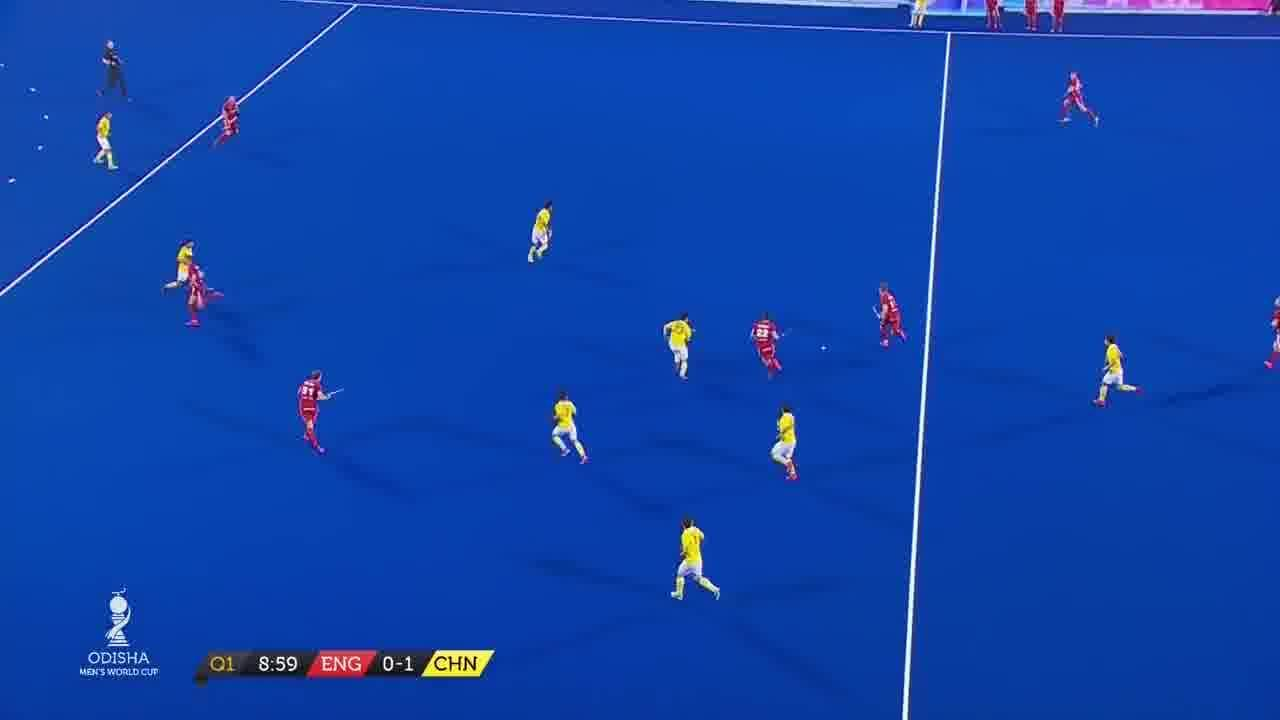ball: (815, 342, 833, 358)
